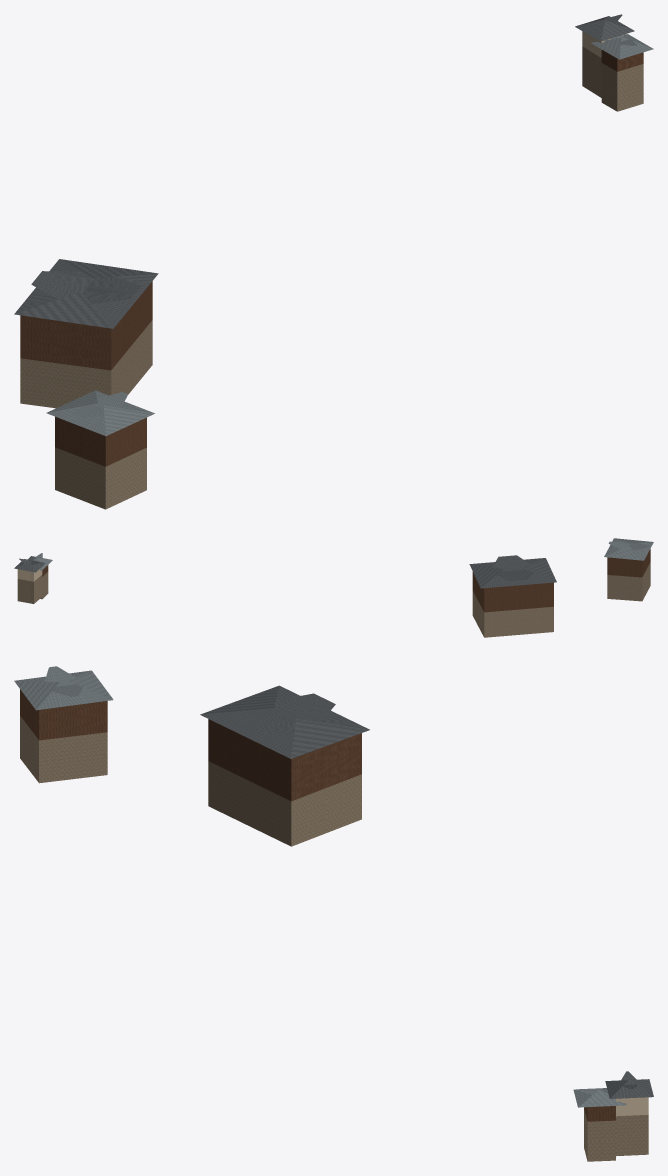
File: bld_c21_32_368.gltf
3 renders of one model, top to bottom at view 1: azimuth 30°, elevation 25°; view 2: azimuth 150°, elevation 25°; view 3: azimuth 270°, elevation 25°, orthographic. The views are drawn at different scales.
Parts seen in each view (by area): view 1: bld_c21_32_368; view 2: bld_c21_32_368; view 3: bld_c21_32_368.
Boxes of the visible parts, x1,y1,x2,y2 form: bld_c21_32_368: [14, 14, 653, 509]; bld_c21_32_368: [14, 538, 653, 637]; bld_c21_32_368: [14, 666, 653, 1161].
Bounding box in the file's own units: 100 × 11.5 × 65.35.
Materials: 5 (5 with a texture image).
